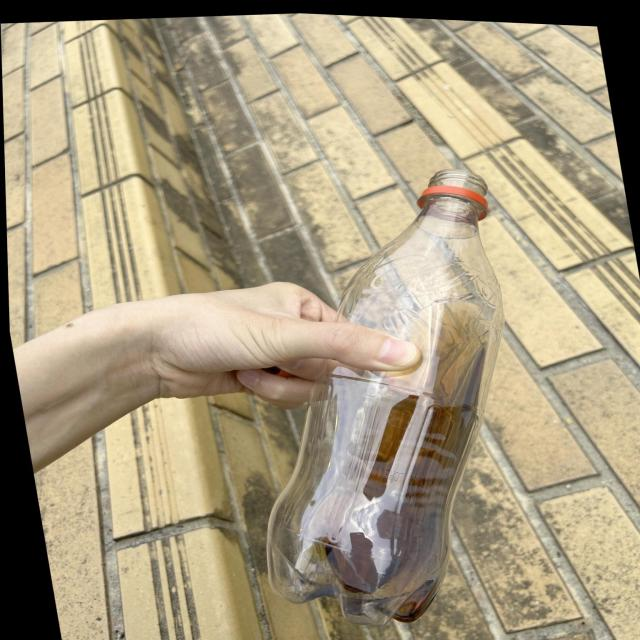low: (267, 169, 503, 626)
